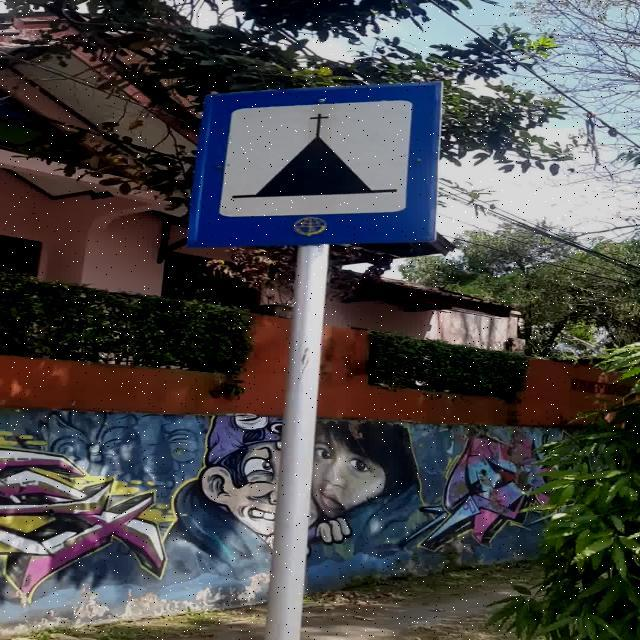Gereja: (185, 82, 442, 246)
